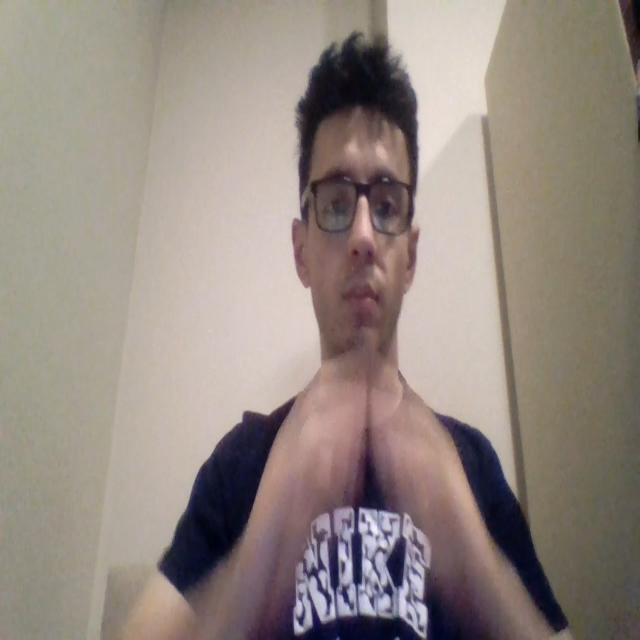house: (238, 344, 476, 604)
